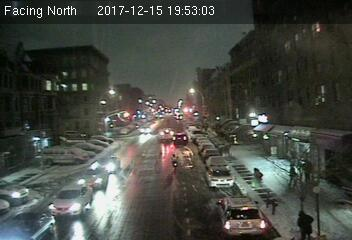bicycle: (169, 152, 180, 171)
car: (215, 197, 268, 240), (50, 183, 93, 216), (73, 163, 109, 190), (203, 165, 235, 189), (93, 154, 122, 174), (158, 127, 174, 143), (172, 131, 189, 146)
pedestrian: (294, 209, 316, 239), (252, 167, 264, 190)
